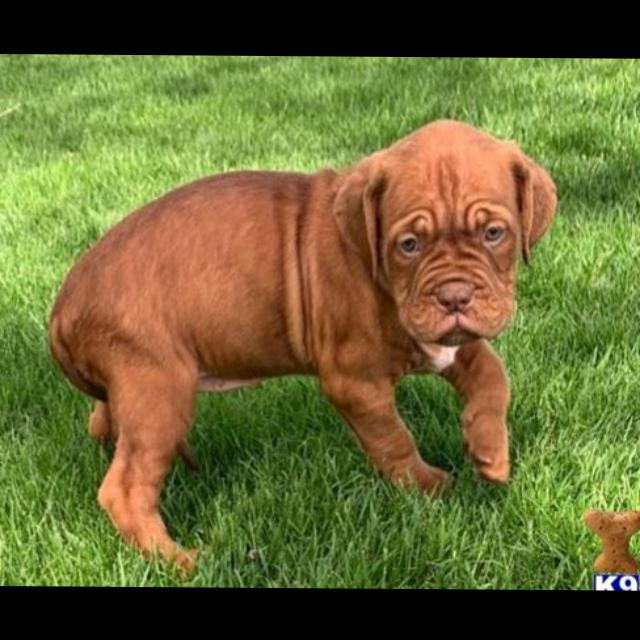dogue_de_bordeaux: (47, 115, 559, 583)
